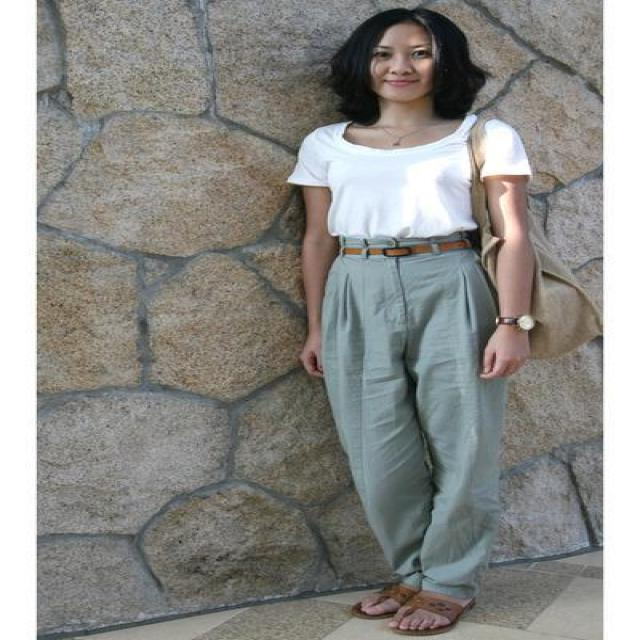pants: (309, 243, 518, 601)
shirt: (288, 115, 530, 249)
shoe: (347, 583, 474, 639)
